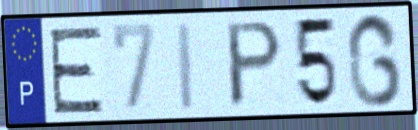5: (290, 15, 340, 109)
7: (108, 19, 163, 116)
E: (46, 23, 106, 117)
G: (345, 10, 405, 110)
I: (174, 20, 198, 114)
P: (225, 18, 285, 111)
